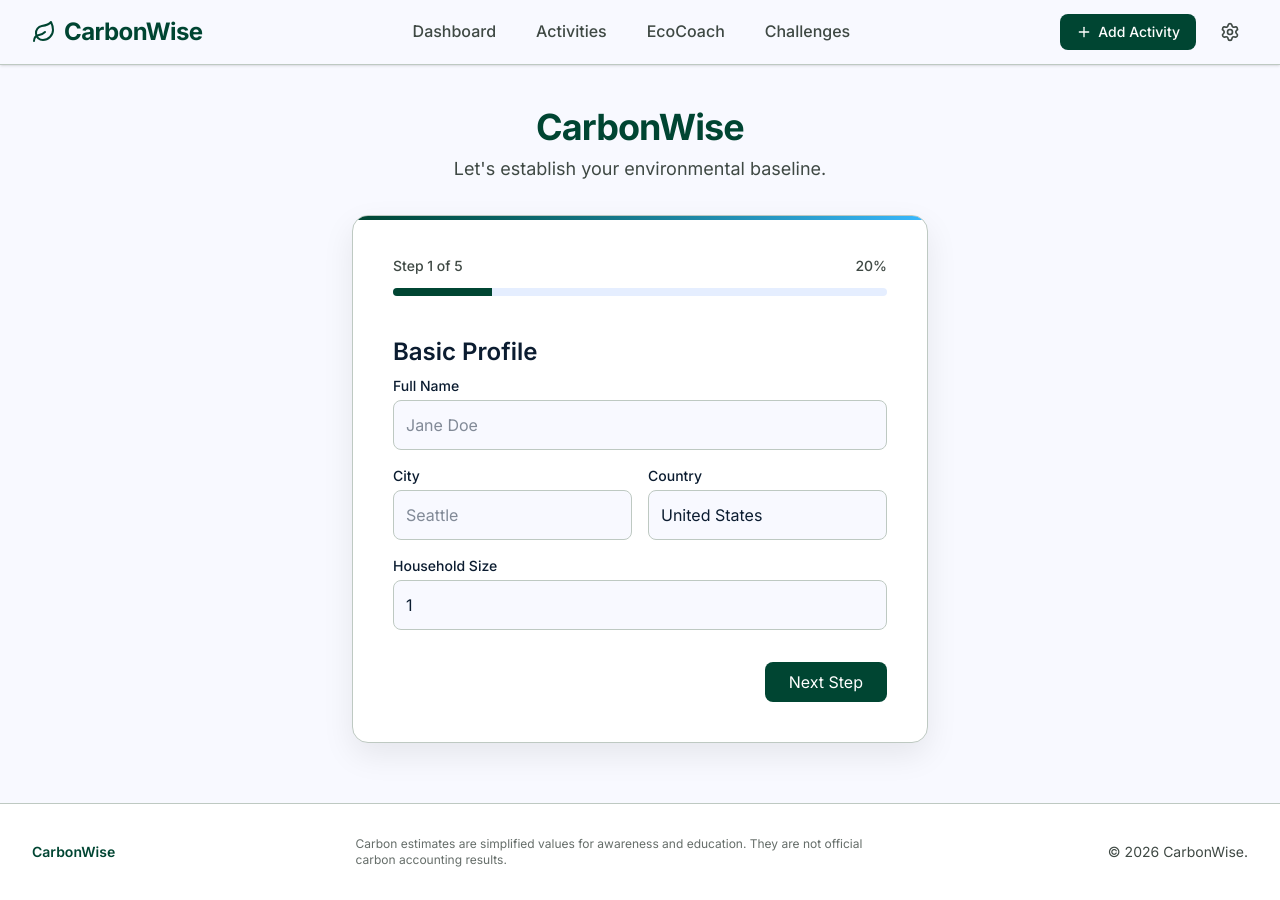
Scenario: OnboardingPage › validates fields before proceeding
This screenshot has width=1280, height=900.
# Proceed without filling name
Click the button "Next Step" at (826, 682), box [765, 662, 887, 702]
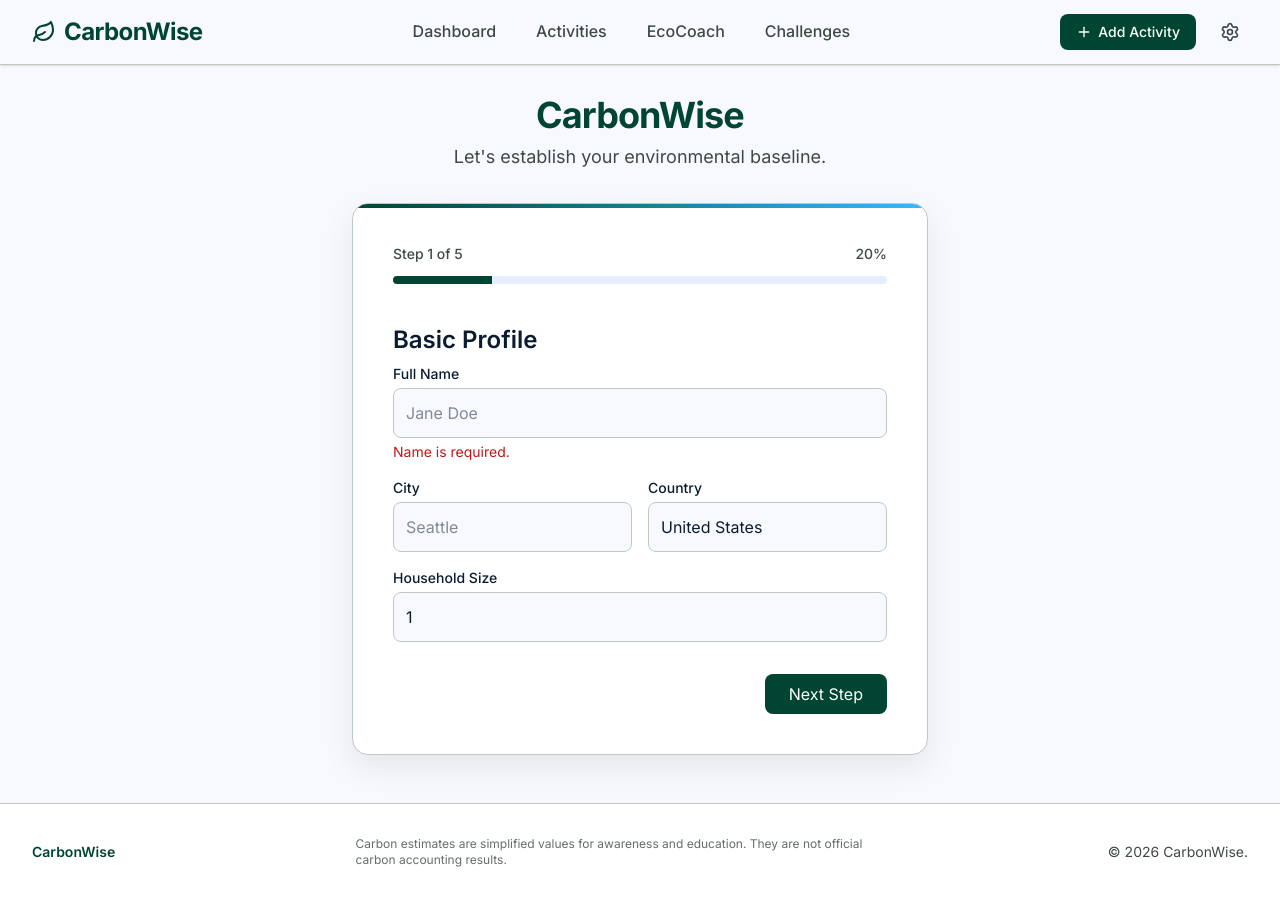
Now the text "Name is required." is shown, box [393, 443, 510, 460]
